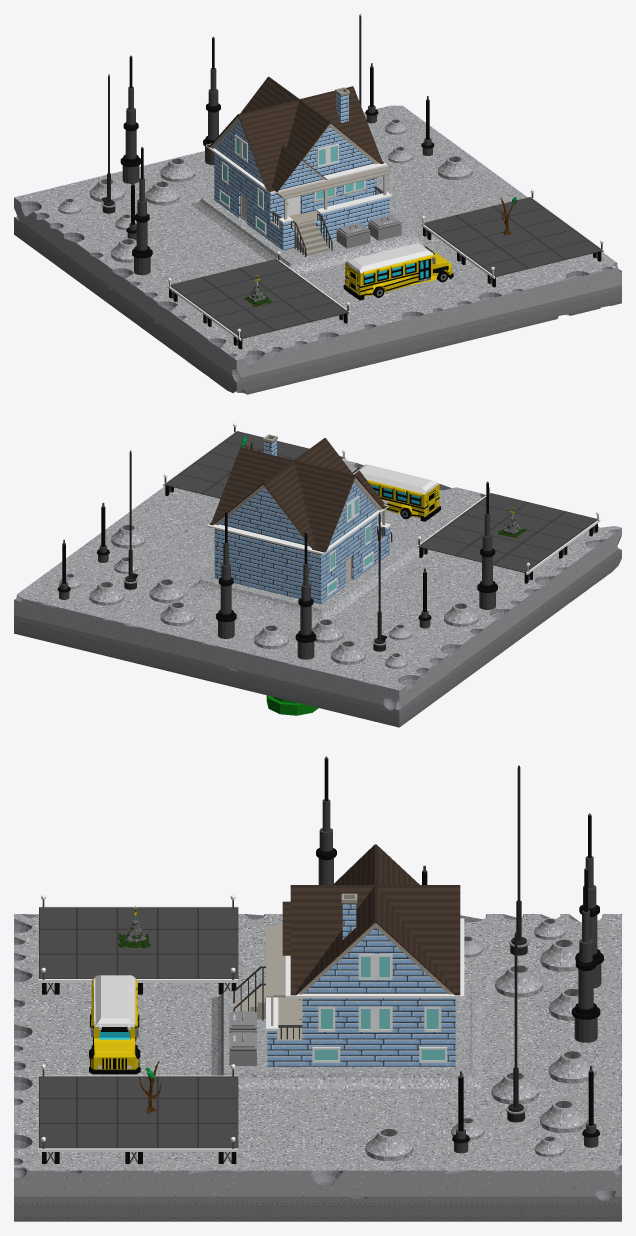
The picture shows the model from 3 angles, top to bottom: view 1: azimuth 30°, elevation 25°; view 2: azimuth 150°, elevation 25°; view 3: azimuth 270°, elevation 25°; orthographic projection. The views are drawn at different scales.
Parts seen in each view (by area): view 1: Cube.027, Cube.547, Cube.026, Cube.025, Cube.028, VEHICLES_SCHOOL_BUS, Cylinder.020, Cylinder.021, Cylinder.017, Cube.029, Cube.030, Cylinder.027 (+3 smaller); view 2: Cube.027, Cube.547, Cube.025, Cube.028, Cube.026, VEHICLES_SCHOOL_BUS, Cylinder.020, Cylinder.021, Cylinder.017, Cylinder.031, Cylinder.028, Cylinder.029 (+8 smaller); view 3: Cube.027, Cube.547, Cube.026, Cube.025, Cube.028, VEHICLES_SCHOOL_BUS, Cylinder.017, Cylinder.020, Cylinder.021, Cylinder.033, Cylinder.031, Cylinder.029 (+9 smaller).
Part boxes in pixels (<box>): Cube.027: <box>14,105,621,394</box>; Cube.547: <box>205,76,392,256</box>; Cube.026: <box>421,189,604,287</box>; Cube.025: <box>167,251,350,349</box>; Cube.028: <box>191,195,424,274</box>; VEHICLES_SCHOOL_BUS: <box>343,243,453,300</box>; Cylinder.020: <box>120,55,140,183</box>; Cylinder.021: <box>132,146,152,275</box>; Cylinder.017: <box>203,36,220,164</box>; Cube.029: <box>336,222,370,248</box>; Cube.030: <box>368,215,401,240</box>; Cylinder.027: <box>160,158,195,182</box>; Cube.027: <box>14,460,621,727</box>; Cube.547: <box>206,434,392,603</box>; Cube.025: <box>417,485,600,583</box>; Cube.028: <box>190,538,419,620</box>; Cube.026: <box>163,423,346,498</box>; VEHICLES_SCHOOL_BUS: <box>352,464,440,521</box>; Cylinder.020: <box>295,531,316,659</box>; Cylinder.021: <box>477,481,497,609</box>; Cylinder.017: <box>216,510,236,638</box>; Cylinder.031: <box>89,581,124,605</box>; Cylinder.028: <box>331,640,365,664</box>; Cylinder.029: <box>160,601,195,626</box>; Cube.027: <box>14,914,621,1221</box>; Cube.547: <box>233,844,464,1066</box>; Cube.026: <box>39,1064,238,1163</box>; Cube.025: <box>39,895,238,994</box>; Cube.028: <box>211,991,481,1088</box>; VEHICLES_SCHOOL_BUS: <box>89,975,140,1074</box>; Cylinder.017: <box>571,867,600,1042</box>; Cylinder.020: <box>575,813,603,988</box>; Cylinder.021: <box>316,756,336,884</box>; Cylinder.033: <box>365,1128,413,1160</box>; Cylinder.031: <box>540,1100,587,1132</box>; Cylinder.029: <box>548,1050,596,1083</box>.
Size of the model in its own units: 4000 by 2383 by 4000.
42 materials, 5 textured.
